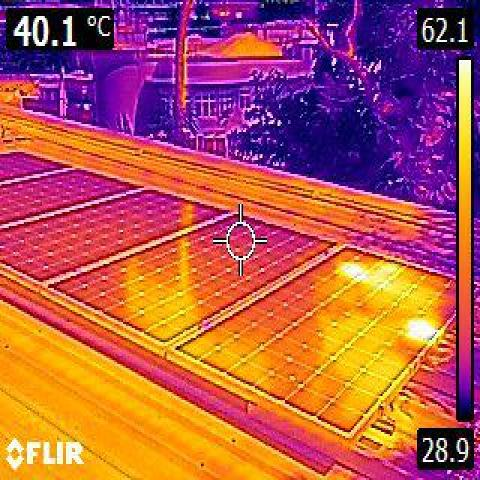fault: (343, 260, 365, 280), (412, 322, 433, 342)
